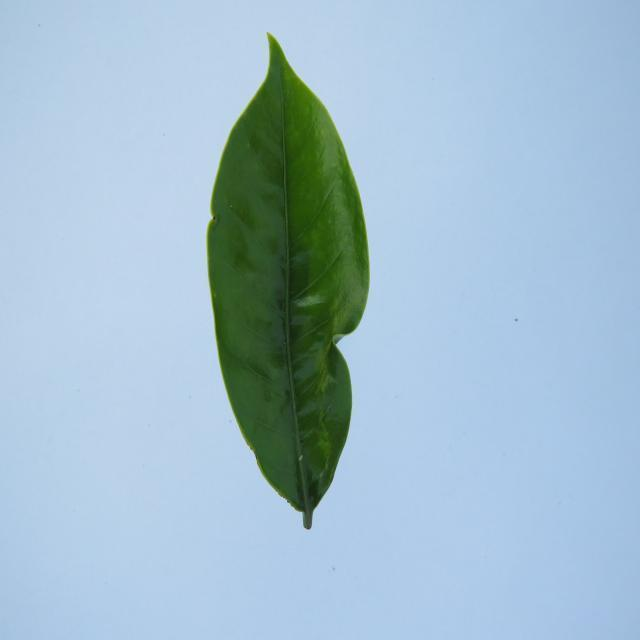DeficienciaNutricional-Calcio: (208, 33, 369, 528)
